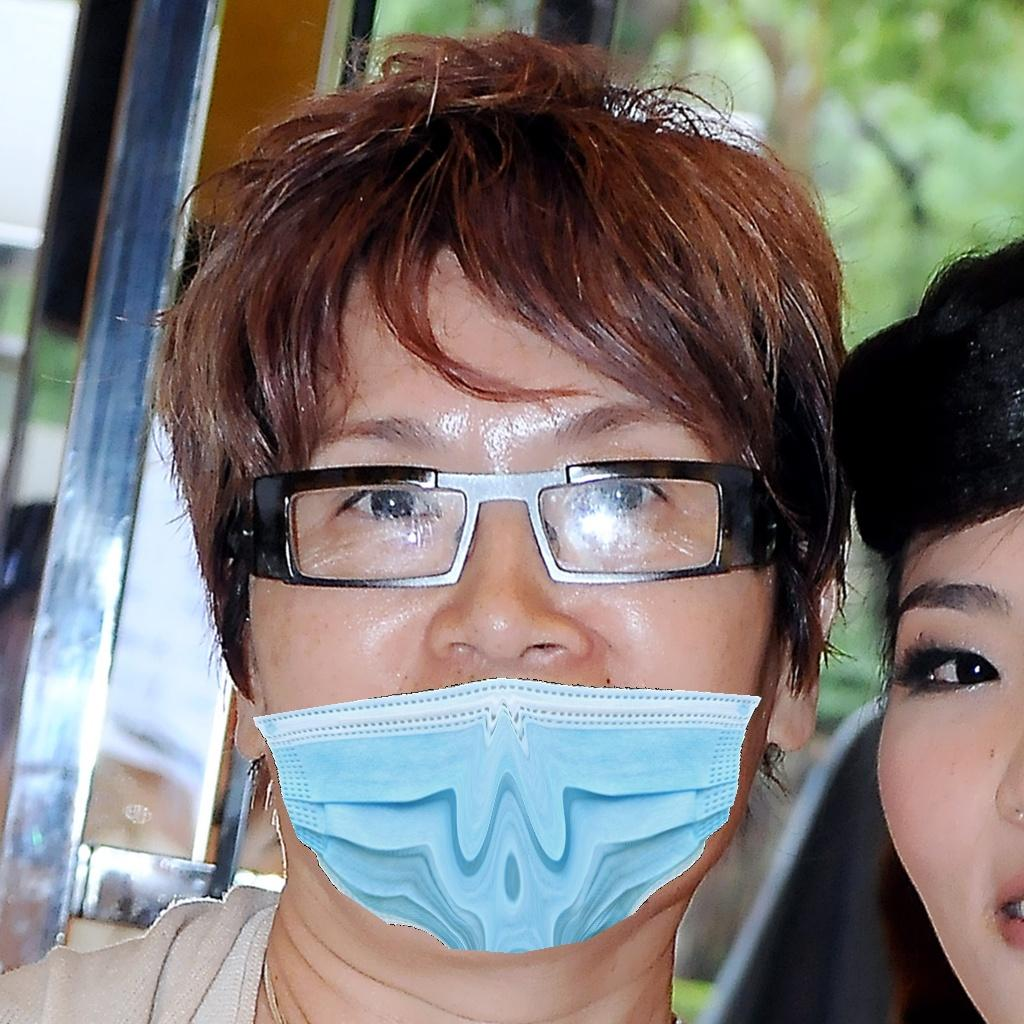Máscara Incorreta: (238, 390, 760, 934)
Sem Máscara: (872, 510, 1024, 1008)
